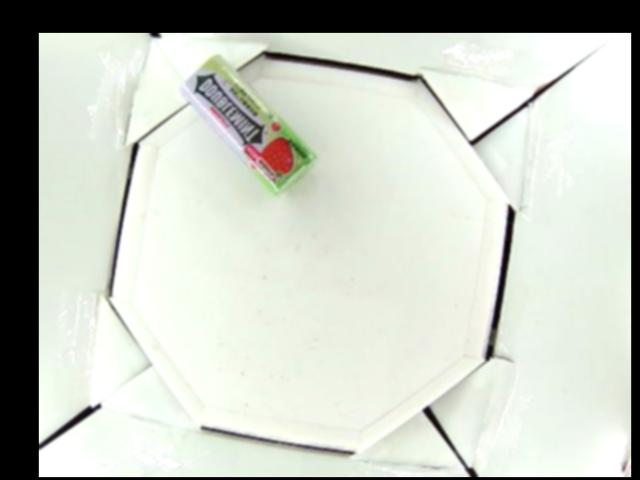Bottle: (178, 55, 313, 192)
